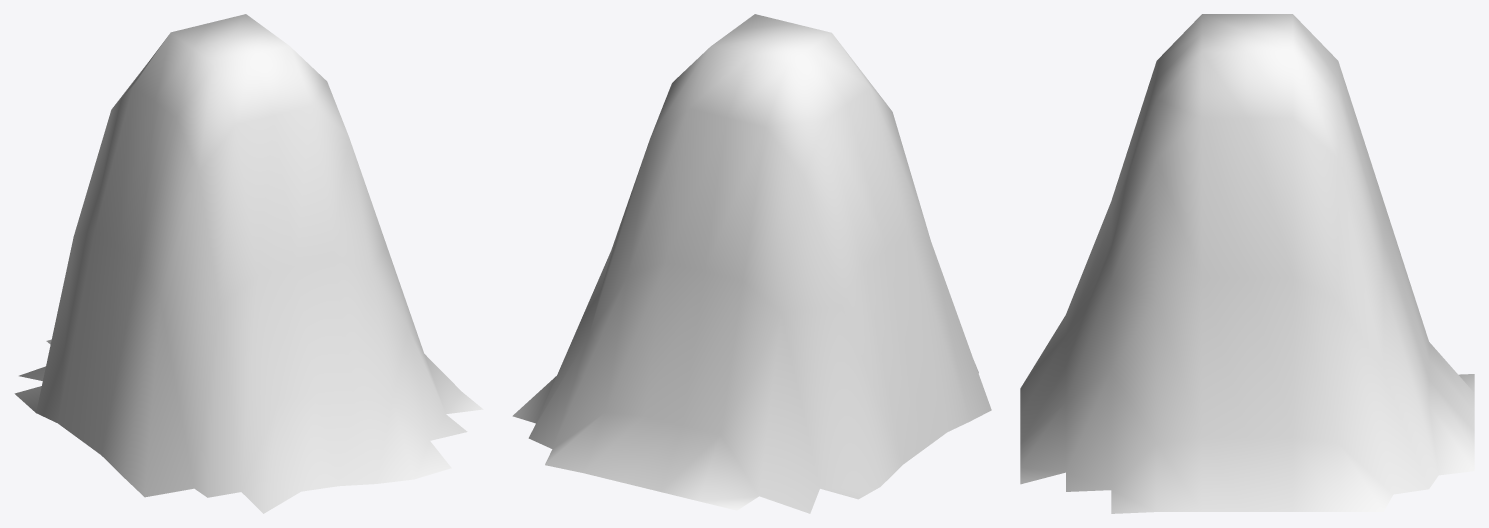
File: Snow Mound 4.fbx
3 views of the same model, side by side, from view 1: azimuth 30°, elevation 25°; view 2: azimuth 150°, elevation 25°; view 3: azimuth 270°, elevation 25° (orthographic). The views are drawn at different scales.
Parts seen in each view (by area): view 1: DirtMound_4; view 2: DirtMound_4; view 3: DirtMound_4.
Boxes of the visible parts, x1,y1,x2,y2 form: DirtMound_4: (14, 14, 483, 513); DirtMound_4: (512, 14, 991, 513); DirtMound_4: (1020, 14, 1474, 513).
Bounding box in the file's own units: 106 × 113 × 117.
1 material, 1 textured.
